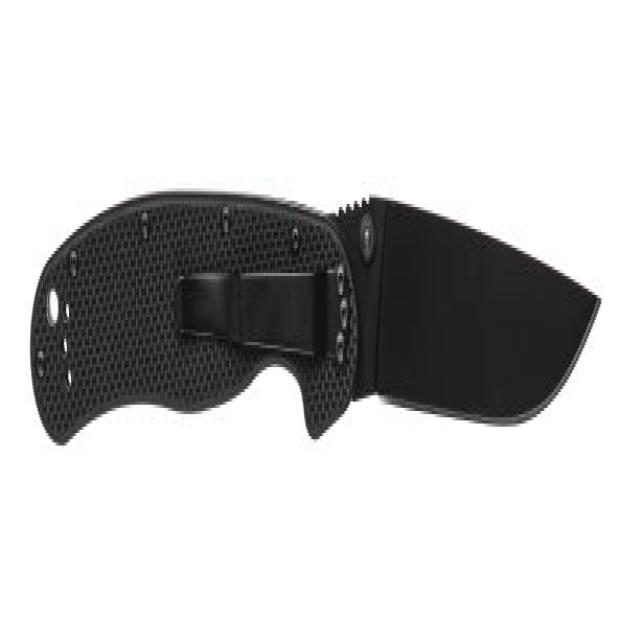knife: (35, 162, 605, 536)
